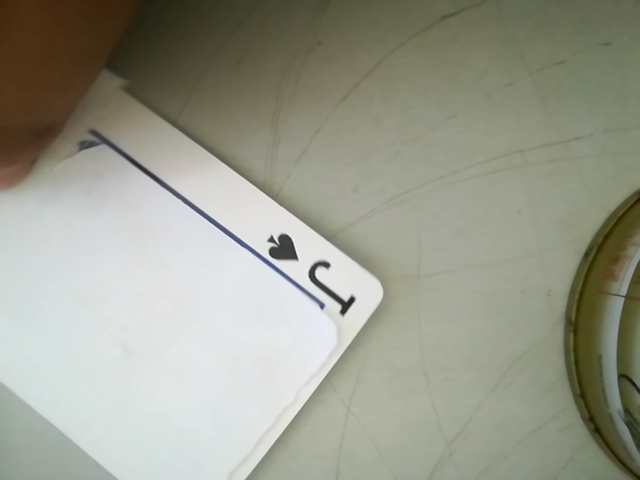ht j: (240, 220, 371, 314)
